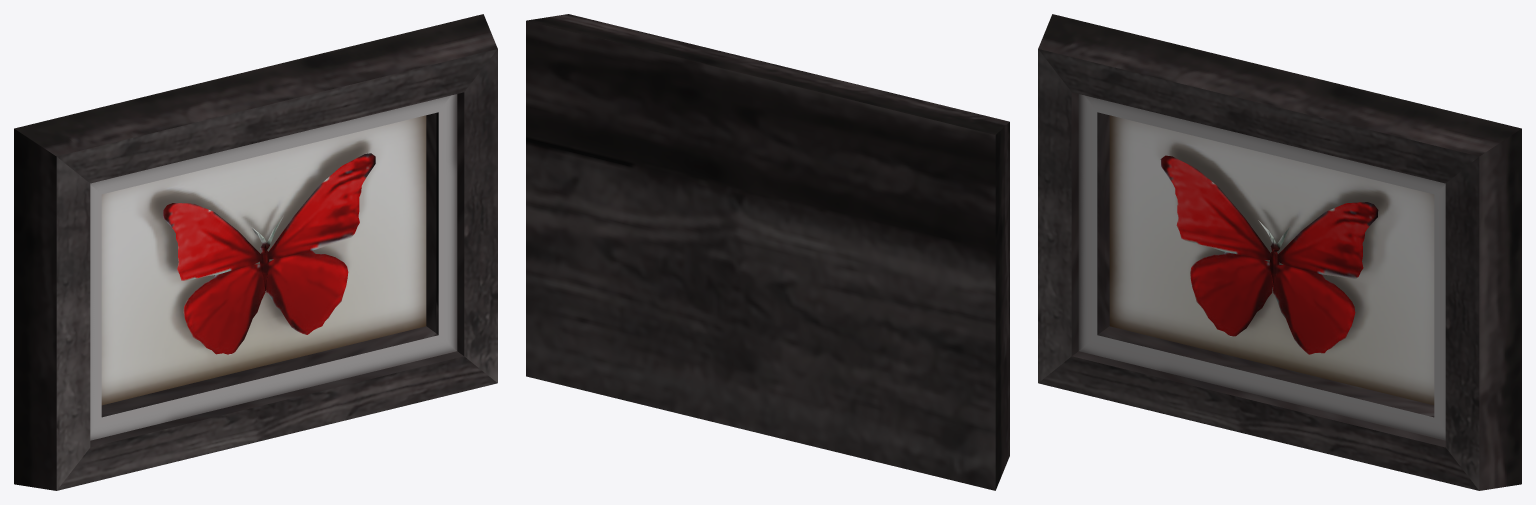
File: MorphoFrameRed_HD.fbx
The picture shows the model from 3 angles, left to right: view 1: azimuth 30°, elevation 25°; view 2: azimuth 150°, elevation 25°; view 3: azimuth 330°, elevation 25°; orthographic projection.
Visible parts, largest first — view 1: MorphoFrameRed, Plane; view 2: MorphoFrameRed; view 3: MorphoFrameRed, Plane.
Part boxes in pixels (x1=…): MorphoFrameRed: x1=14, y1=14, x2=497, y2=490; Plane: x1=163, y1=153, x2=375, y2=354; MorphoFrameRed: x1=526, y1=14, x2=1009, y2=490; MorphoFrameRed: x1=1038, y1=14, x2=1521, y2=490; Plane: x1=1160, y1=155, x2=1378, y2=354.
Size of the model in its own units: 0.9941 by 0.72 by 0.1039.
